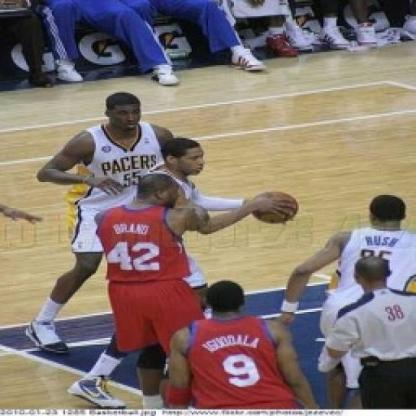basketball: (253, 187, 299, 228)
